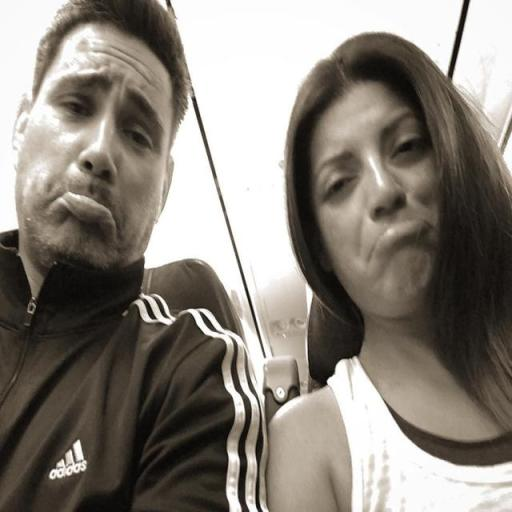Adidas: (46, 437, 89, 482)
